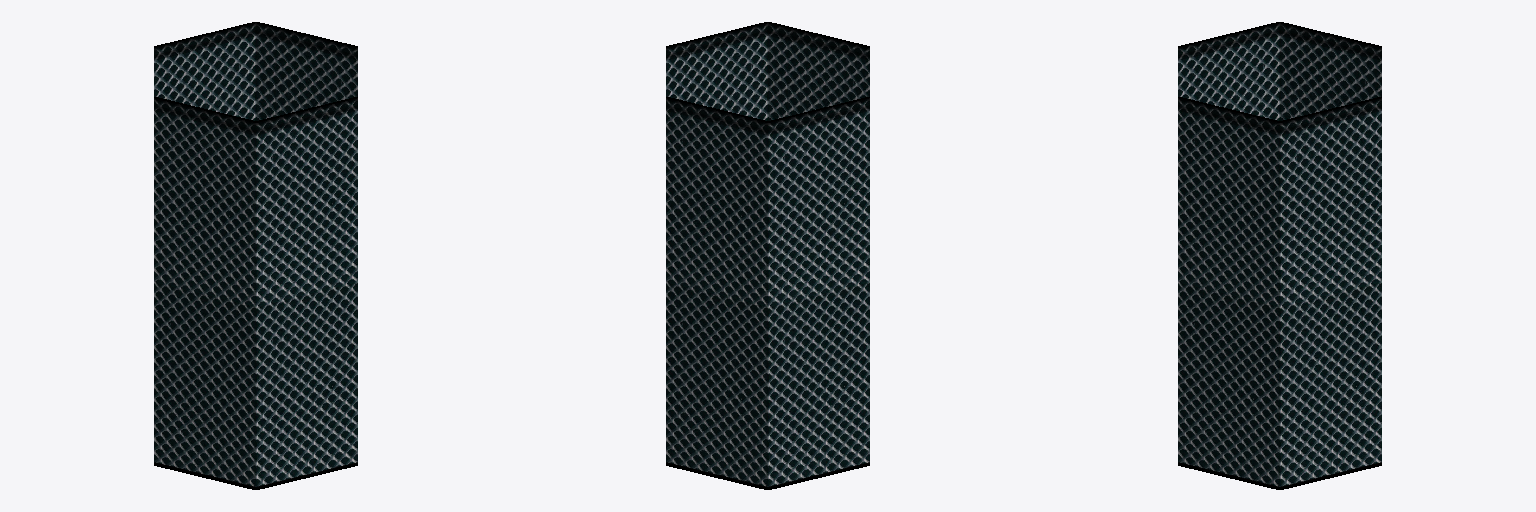
3 views of the same model, side by side, from view 1: azimuth 30°, elevation 25°; view 2: azimuth 150°, elevation 25°; view 3: azimuth 270°, elevation 25° (orthographic).
Parts seen in each view (by area): view 1: trashCan_4; view 2: trashCan_4; view 3: trashCan_4.
Boxes of the visible parts, x1,y1,x2,y2 form: trashCan_4: [154, 22, 357, 489]; trashCan_4: [666, 22, 869, 489]; trashCan_4: [1178, 22, 1381, 489].
Size of the model in its own units: 0.7716 by 1.33 by 0.6682.
Materials: 1 (1 with a texture image).